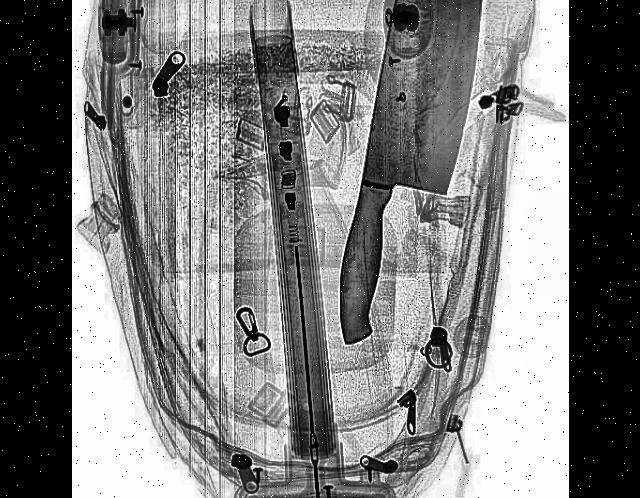Knife: (305, 0, 502, 372)
